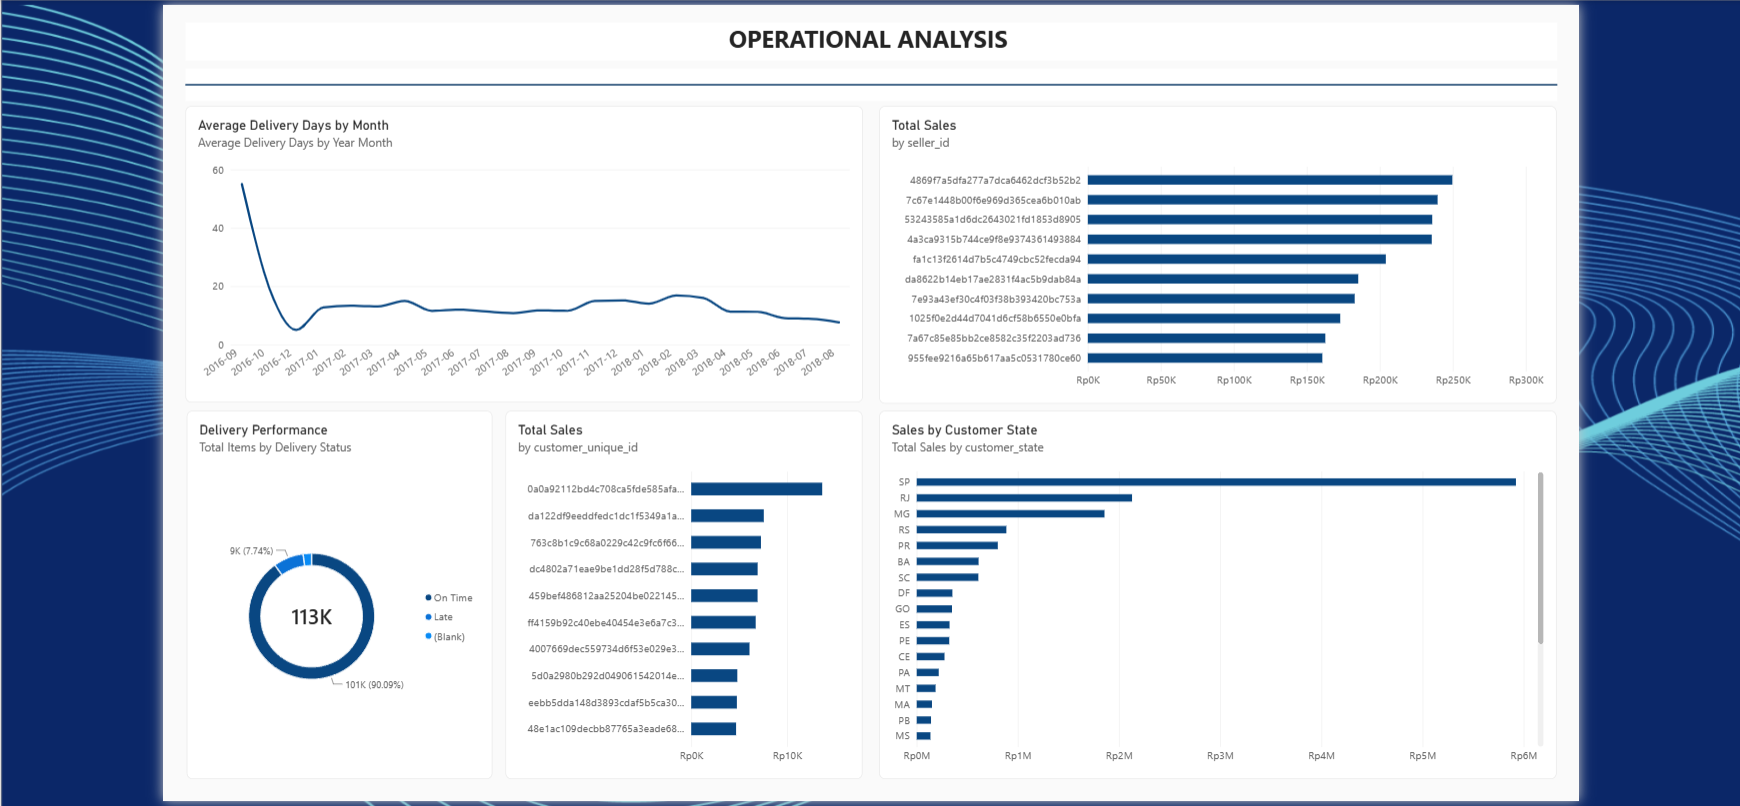

Layout of this report page (visuals, bound fields, positions):
{"tool":"powerbi","page":{"name":"Operational Analysis","canvas":[1920,1080],"ordinal":1},"visuals":[{"type":"lineChart","title":"Average Delivery Days by Month","fields":{"Category":["olist_dw dim_date.Year Month"],"Y":["olist_dw fact_sales.Average Delivery Days"]},"box":[30,138,918,402],"z":0},{"type":"donutChart","title":"Delivery Performance","fields":{"Category":["olist_dw fact_sales.Delivery Status"],"Y":["olist_dw fact_sales.Total Items"]},"box":[32,550,414,500],"z":1000},{"type":"clusteredBarChart","fields":{"Category":["olist_dw dim_seller.seller_id"],"Y":["olist_dw fact_sales.Total Sales"]},"box":[972,138,918,404],"z":2000},{"type":"clusteredBarChart","title":"Sales by Customer State","fields":{"Category":["olist_dw dim_customer.customer_state"],"Y":["olist_dw fact_sales.Total Sales"]},"box":[971,550,918,500],"z":3000},{"type":"barChart","fields":{"Category":["olist_dw dim_customer.customer_unique_id"],"Y":["olist_dw fact_sales.Total Sales"]},"box":[464,550,484,500],"z":4000},{"type":"textbox","box":[30,24,1860,52],"z":5000},{"type":"shape","box":[30,86,1860,44],"z":5001}]}

Visuals, with their boxes on the page's 1920x1080 design canvas (x1, y1, x2, y2). These are canvas units, not pixel positions in the 1740x806 screenshot, which may show the page scaled, cropped or inside an application window:
"Average Delivery Days by Month" lineChart: <bbox>30, 138, 948, 540</bbox>
"Delivery Performance" donutChart: <bbox>32, 550, 446, 1050</bbox>
clusteredBarChart - olist_dw dim_seller.seller_id x olist_dw fact_sales.Total Sales: <bbox>972, 138, 1890, 542</bbox>
"Sales by Customer State" clusteredBarChart: <bbox>971, 550, 1889, 1050</bbox>
barChart - olist_dw dim_customer.customer_unique_id x olist_dw fact_sales.Total Sales: <bbox>464, 550, 948, 1050</bbox>
textbox: <bbox>30, 24, 1890, 76</bbox>
shape: <bbox>30, 86, 1890, 130</bbox>
